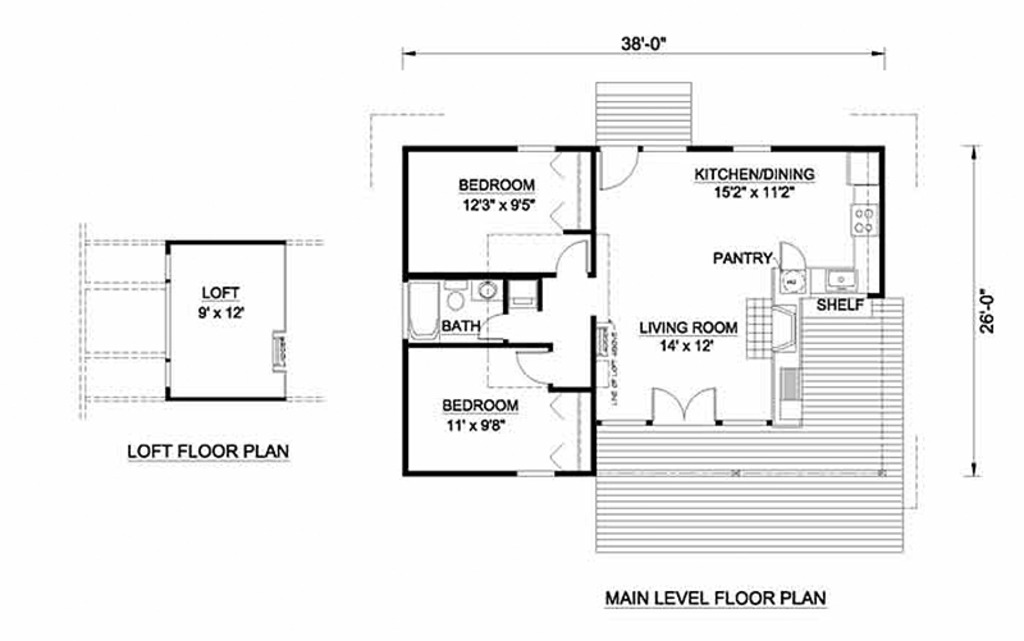door: (647, 380, 721, 429), (551, 233, 598, 280), (602, 145, 641, 192), (516, 348, 561, 388), (470, 306, 510, 342), (774, 236, 809, 271)
large_sink: (446, 276, 470, 317)
sink: (823, 267, 867, 295)
small_sink: (469, 278, 506, 302)
tub: (406, 272, 443, 344)
window: (727, 142, 774, 155), (517, 139, 555, 155), (518, 468, 557, 479)
